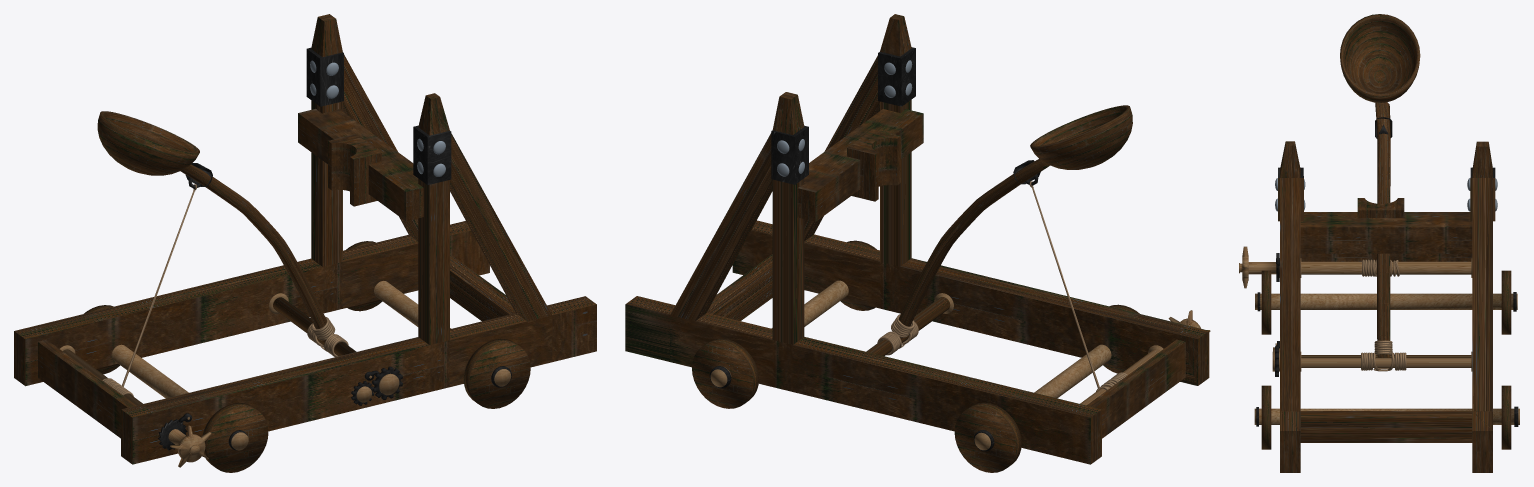
The model's file is catapult.glb.
3 renders of one model, left to right at view 1: azimuth 30°, elevation 25°; view 2: azimuth 150°, elevation 25°; view 3: azimuth 270°, elevation 25°, orthographic. The views are drawn at different scales.
Visible parts, largest first — view 1: Object_8, Object_9, Object_7, Object_2, Object_5, Object_6; view 2: Object_8, Object_7, Object_9, Object_5, Object_2; view 3: Object_8, Object_9, Object_7, Object_3, Object_4.
Boxes of the visible parts, bbox=[...] form: Object_8: bbox=[14, 14, 596, 472]; Object_9: bbox=[60, 281, 511, 467]; Object_7: bbox=[158, 47, 511, 450]; Object_2: bbox=[310, 60, 445, 176]; Object_5: bbox=[122, 189, 335, 386]; Object_6: bbox=[351, 366, 402, 405]; Object_8: bbox=[625, 14, 1209, 472]; Object_7: bbox=[709, 47, 1040, 451]; Object_9: bbox=[710, 280, 1210, 450]; Object_5: bbox=[891, 186, 1099, 387]; Object_2: bbox=[777, 60, 912, 176]; Object_8: bbox=[1261, 14, 1511, 472]; Object_9: bbox=[1239, 246, 1519, 424]; Object_7: bbox=[1256, 117, 1518, 426]; Object_3: bbox=[1361, 259, 1406, 370]; Object_4: bbox=[1362, 259, 1399, 371].
Bounding box in the file's own units: 6.65 × 4.39 × 3.88.
Materials: 5 (5 with a texture image).
